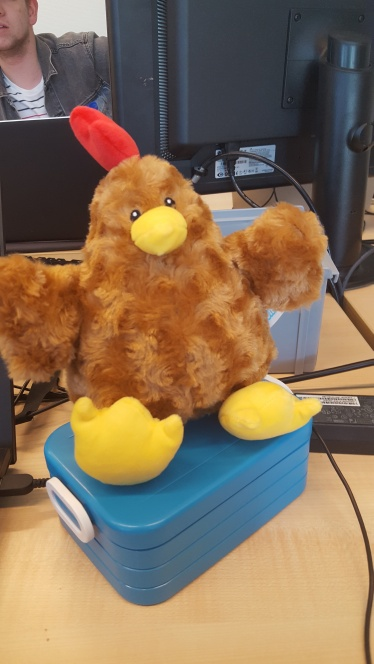chicken_front: (2, 103, 322, 488)
